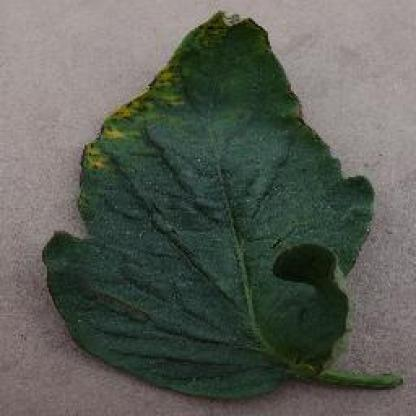bad leaf: (34, 0, 415, 415)
